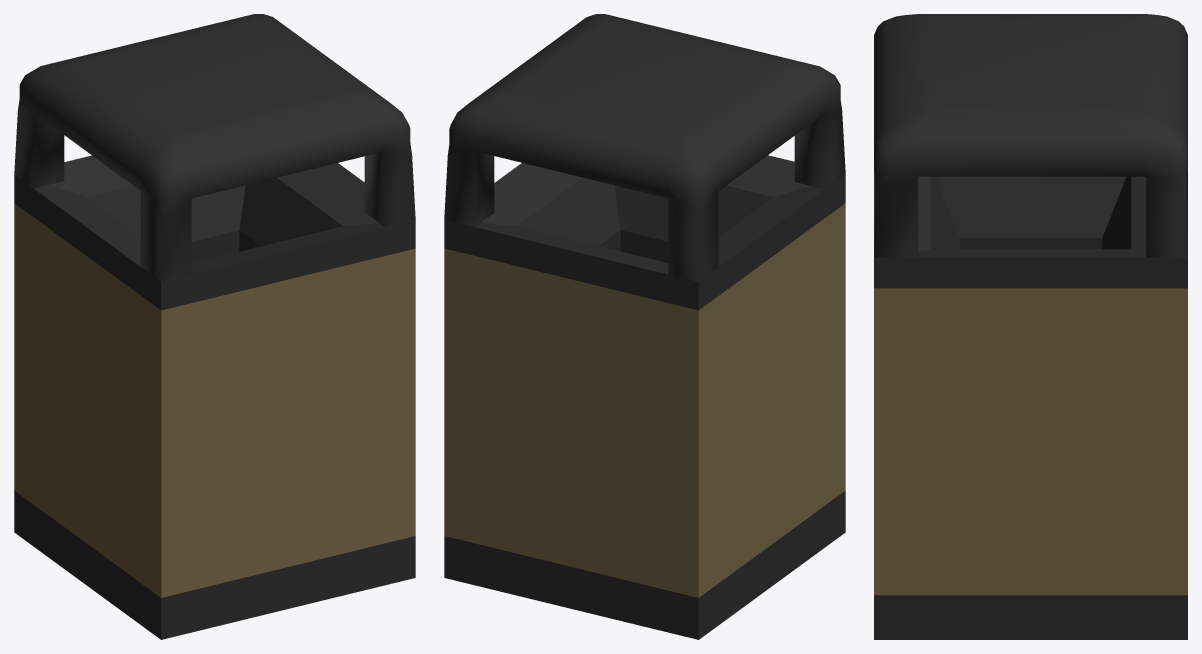
The model's file is trashcan.fbx.
3 renders of one model, left to right at view 1: azimuth 30°, elevation 25°; view 2: azimuth 150°, elevation 25°; view 3: azimuth 270°, elevation 25°, orthographic. The views are drawn at different scales.
Parts seen in each view (by area): view 1: Trashcan; view 2: Trashcan; view 3: Trashcan.
Boxes of the visible parts, left/top/right/bottom form: Trashcan: left=14, top=14, right=415, bottom=639; Trashcan: left=444, top=14, right=845, bottom=639; Trashcan: left=874, top=14, right=1187, bottom=639.
Size of the model in its own units: 64.7 by 64.7 by 116.
